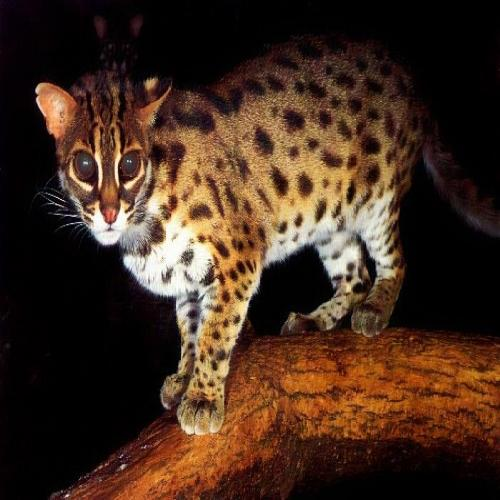cat-face: (24, 60, 181, 258)
